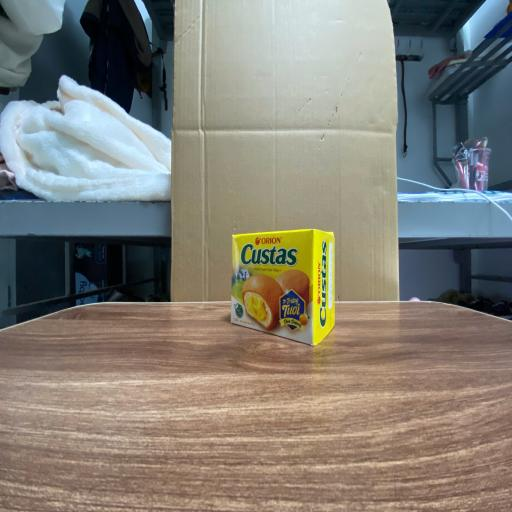custas: (230, 228, 335, 346)
